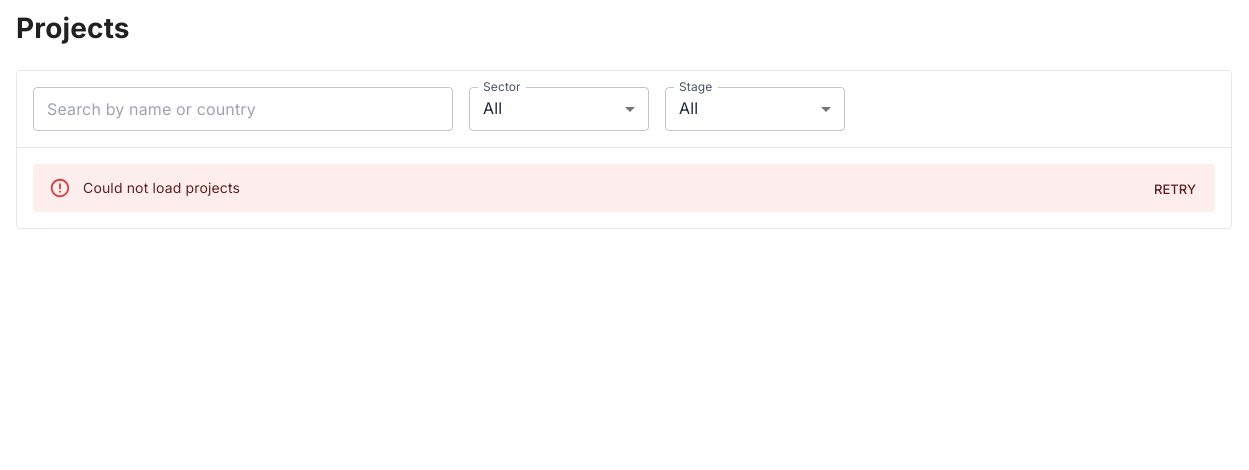
Scenario: ProjectList › shows the error and Retry loads again
Expected: the text "Could not load projects" is shown, [83,179,240,196]
What coordinates should you click on to do the following:
click the button "Retry"
I would click on:
 (1175, 189)
Its box is [1143,174,1207,204].
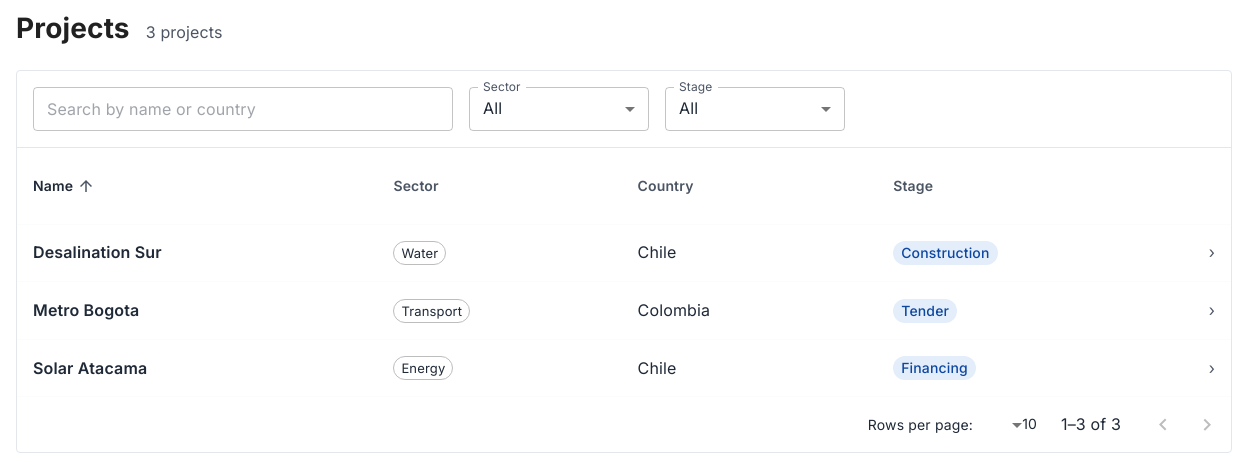
Expected: the link "Solar Atacama" is shown, [33,358,147,378]
